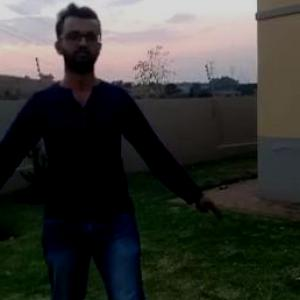land: (1, 5, 235, 298)
